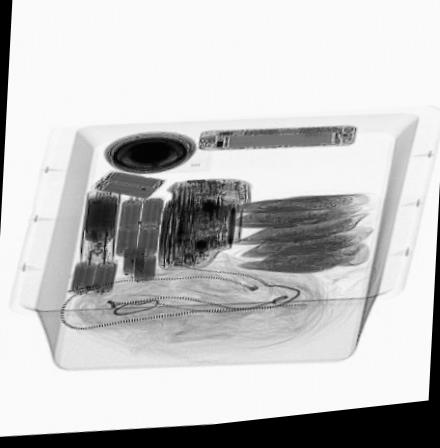Powerbank: (91, 172, 168, 201)
